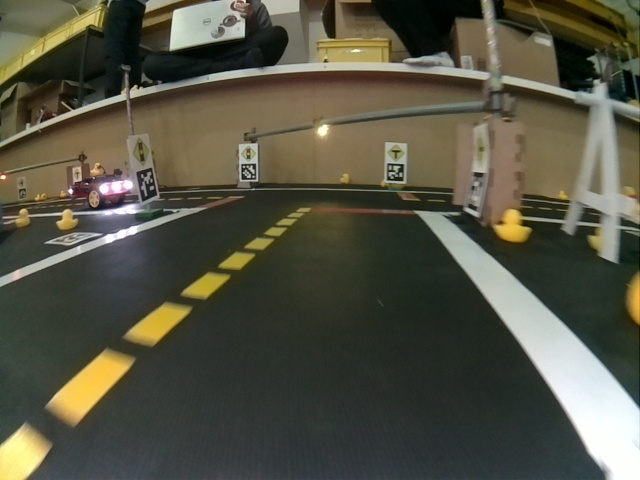Duckie: (495, 210, 528, 242), (56, 210, 76, 229), (89, 162, 104, 176), (17, 209, 30, 224), (558, 191, 568, 200), (340, 174, 349, 182)
Duckiebot: (70, 176, 132, 208)
Intersection sign: (471, 129, 490, 168), (387, 144, 406, 162)
QR code: (466, 172, 487, 212), (44, 233, 101, 246), (137, 169, 157, 201), (386, 164, 405, 182), (240, 165, 256, 180)
Signal sign: (132, 137, 150, 167), (240, 146, 256, 161)
Traffic light: (316, 118, 329, 139)
